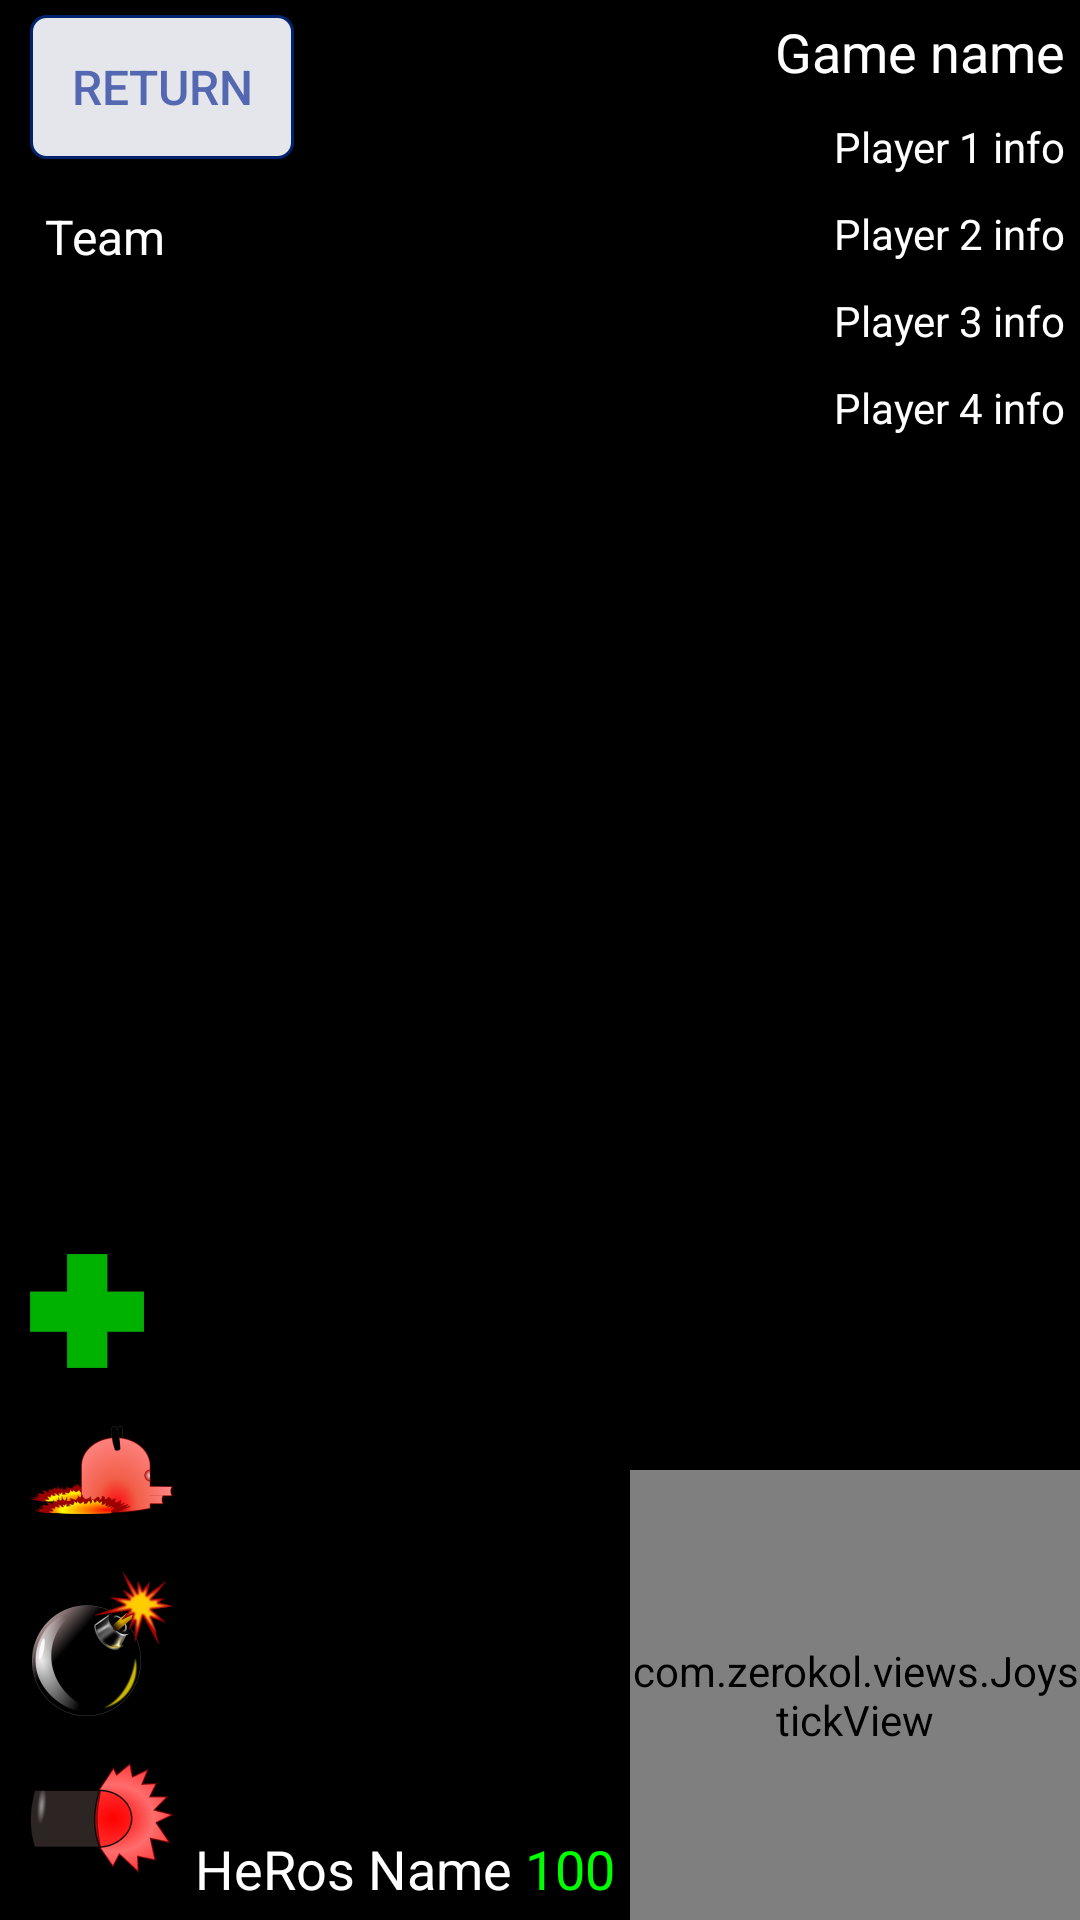

Screen size 1080*1920. Icon name, then its center in pixels as (x=x, y=y):
direct shot: (x=102, y=1818)
Heal: (x=87, y=1311)
